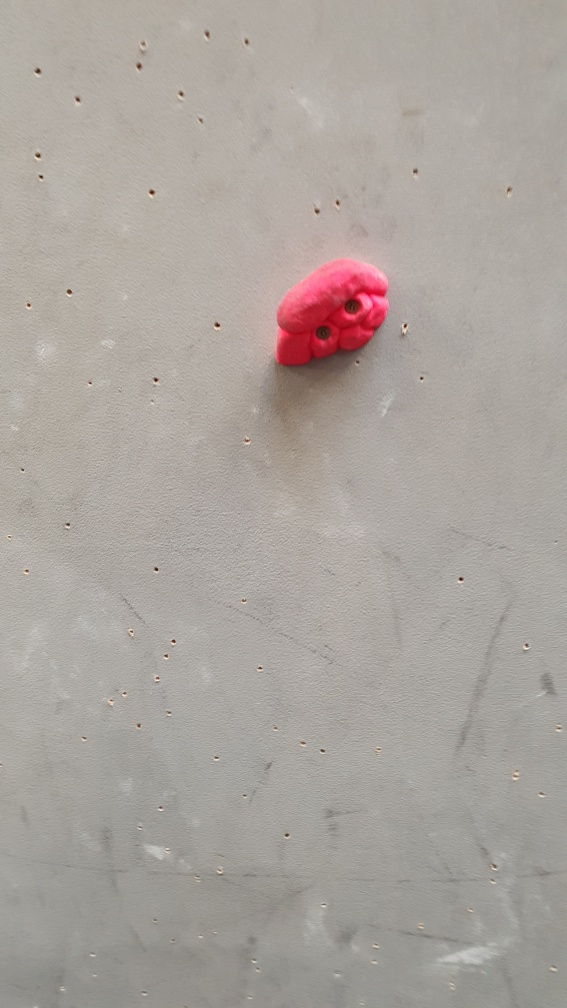Jug: (265, 255, 393, 369)
